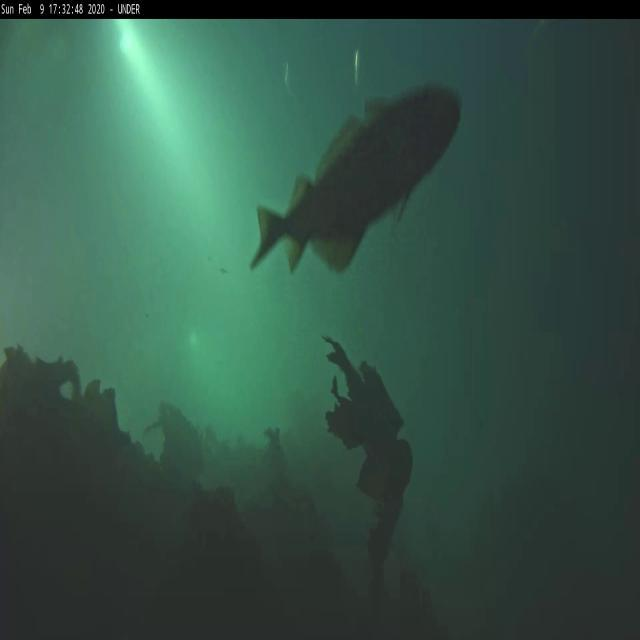fish: (249, 88, 462, 276), (352, 51, 362, 85), (280, 66, 292, 90)
